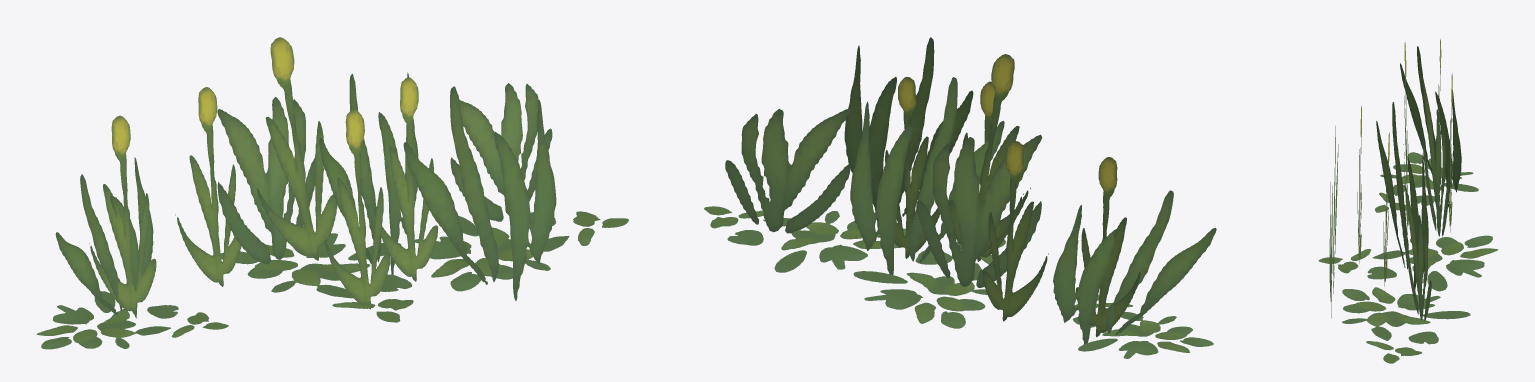
Rendered from pref_sm_beach_techsgrass12_lv2.fbx.
3 views of the same model, side by side, from view 1: azimuth 30°, elevation 25°; view 2: azimuth 150°, elevation 25°; view 3: azimuth 270°, elevation 25° (orthographic). The views are drawn at different scales.
Visible parts, largest first — view 1: pref_sm_beach_techsgrass12_lv2; view 2: pref_sm_beach_techsgrass12_lv2; view 3: pref_sm_beach_techsgrass12_lv2.
Part boxes in pixels (box(x1,y1,x2,y2)): pref_sm_beach_techsgrass12_lv2: box(36, 37, 628, 349); pref_sm_beach_techsgrass12_lv2: box(704, 37, 1216, 358); pref_sm_beach_techsgrass12_lv2: box(1318, 39, 1498, 363).
Bounding box in the file's own units: 1.61 × 0.789 × 0.6397.
